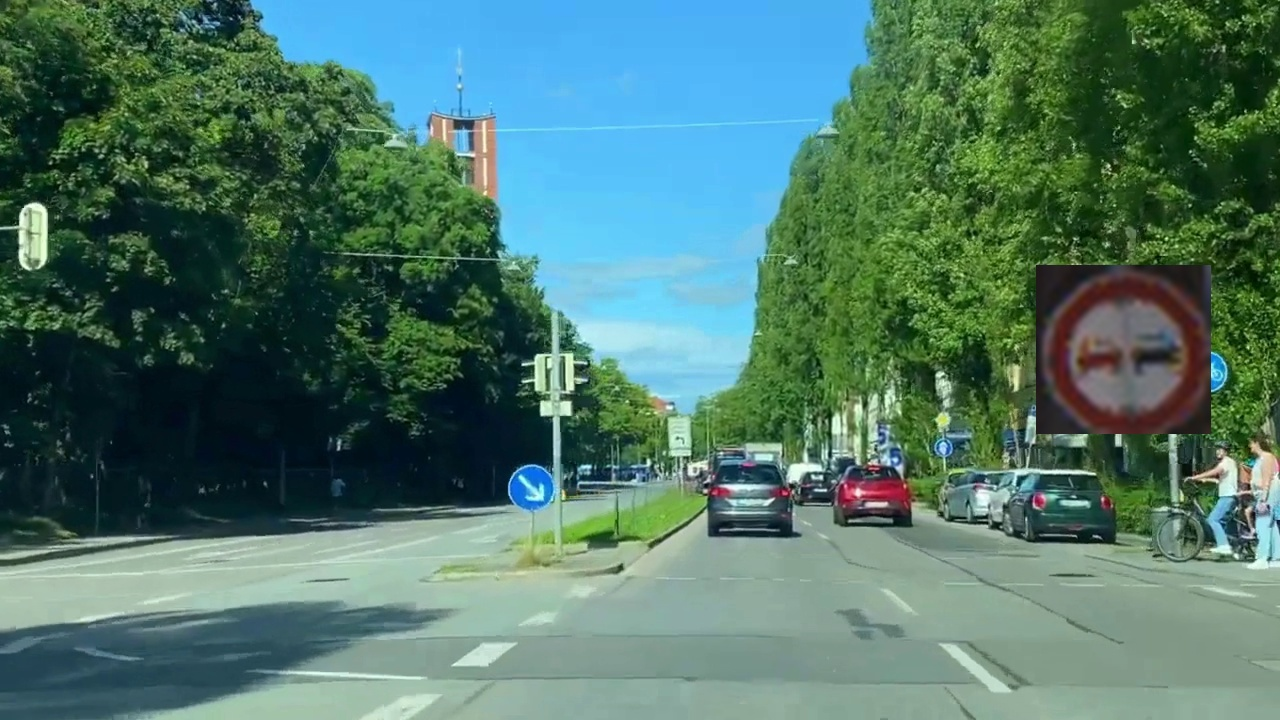No passing: (1036, 265, 1211, 434)
